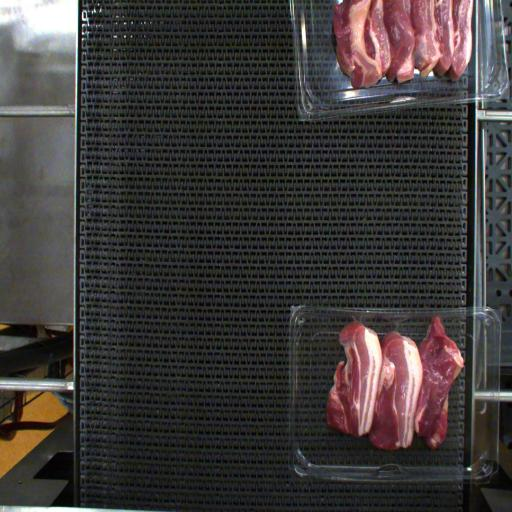packaging-error: (386, 322, 400, 334), (352, 313, 362, 326)
